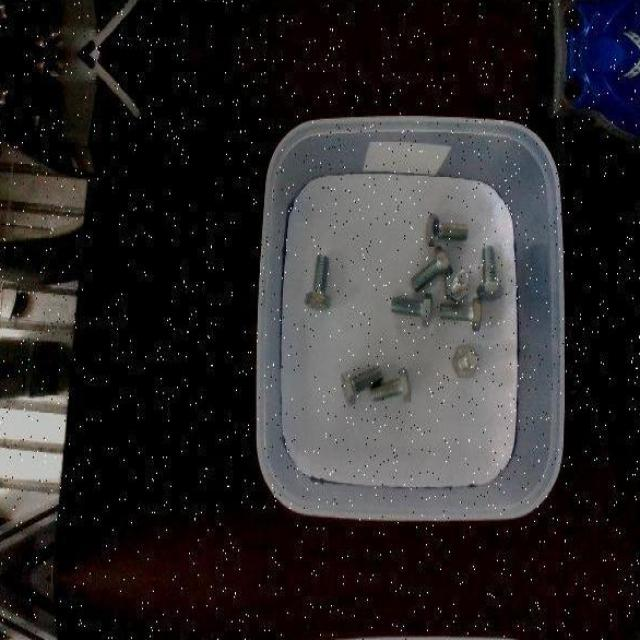screw: (411, 246, 452, 292), (341, 365, 383, 406), (475, 244, 504, 302), (304, 253, 331, 310), (370, 366, 411, 402), (389, 293, 432, 326), (439, 297, 482, 330), (426, 213, 468, 246), (452, 344, 480, 376), (446, 267, 470, 303)
